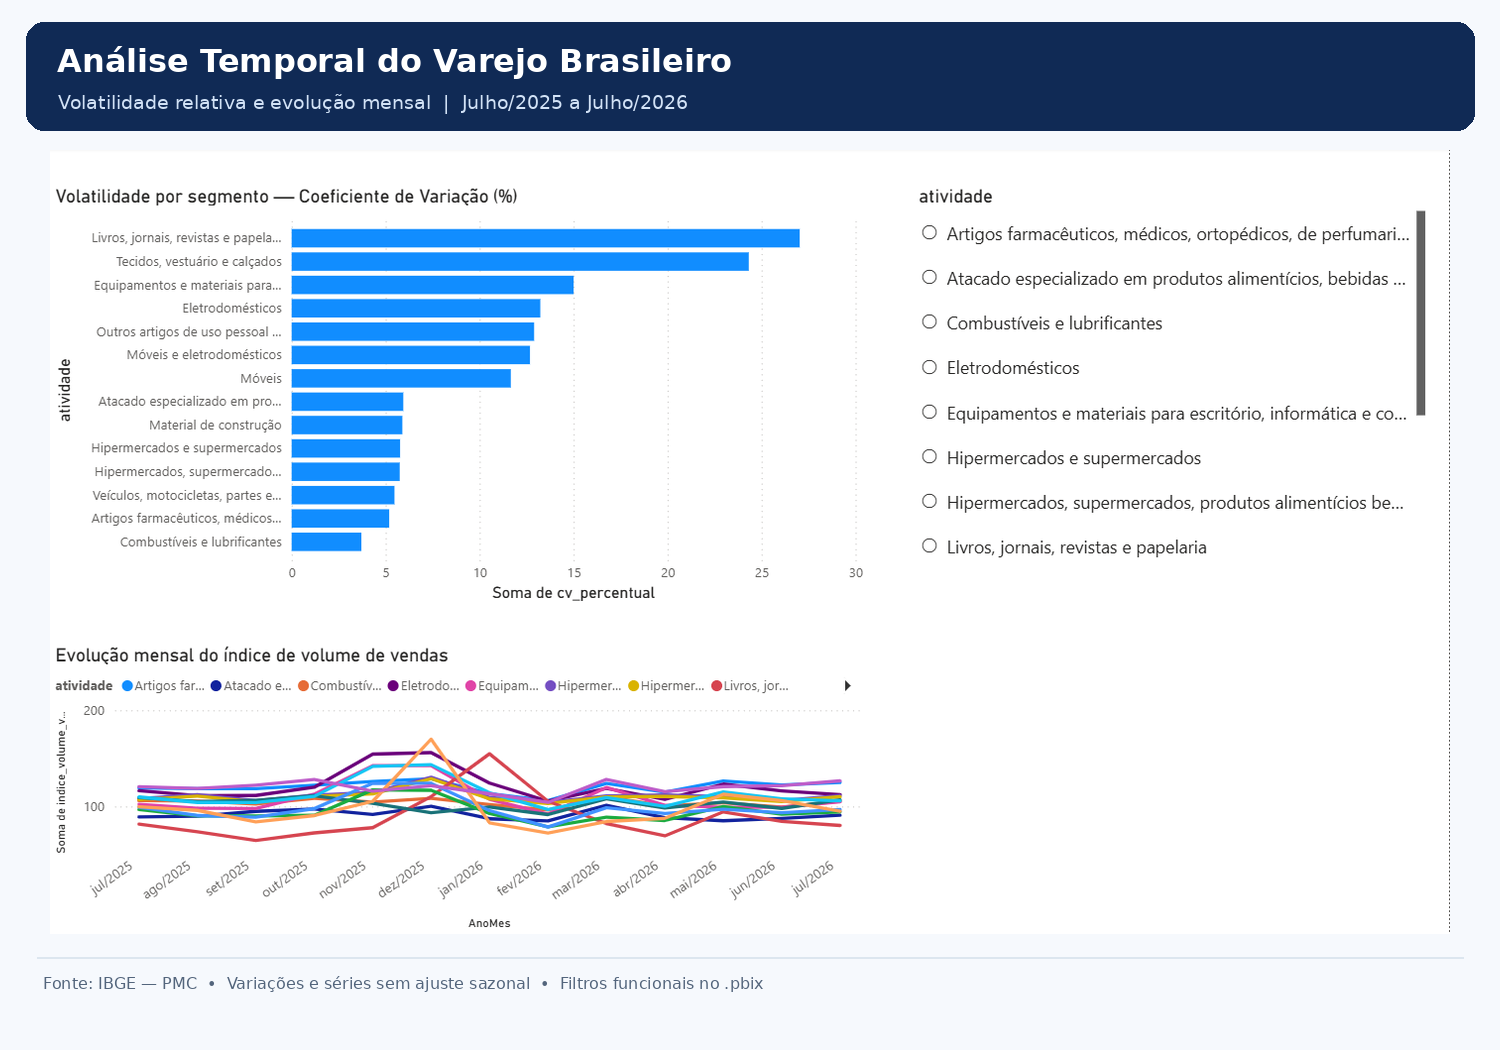

This screenshot's page, from the dashboard's own definition file:
{"tool":"powerbi","page":{"name":"Análise Temporal","canvas":[1280,720],"ordinal":1},"visuals":[{"type":"clusteredBarChart","title":"Volatilidade por segmento — Coeficiente de Variação (%)","fields":{"Category":["Dim_Atividade.atividade"],"Y":["Sum(portfolio_varejo vw_volatilidade.cv_percentual)"]},"box":[0,34.8,748.7,386],"z":0},{"type":"lineChart","title":"Evolução mensal do índice de volume de vendas","fields":{"Category":["Dim_Calendario.AnoMes"],"Y":["Sum(portfolio_varejo vw_atividades.indice_volume_vendas)"],"Series":["Dim_Atividade.atividade"]},"box":[0,454,749,266],"z":1000},{"type":"listSlicer","fields":{"Values":["Dim_Atividade.atividade"]},"box":[790.1,34.8,473.8,357.8],"z":2000}]}

Visuals, with their boxes on the page's 1280x720 design canvas (x1, y1, x2, y2). These are canvas units, not pixel positions in the 1500x1050 screenshot, which may show the page scaled, cropped or inside an application window:
"Volatilidade por segmento — Coeficiente de Variação (%)" clusteredBarChart: x1=0 y1=35 x2=749 y2=421
"Evolução mensal do índice de volume de vendas" lineChart: x1=0 y1=454 x2=749 y2=720
listSlicer - Dim_Atividade.atividade: x1=790 y1=35 x2=1264 y2=393
